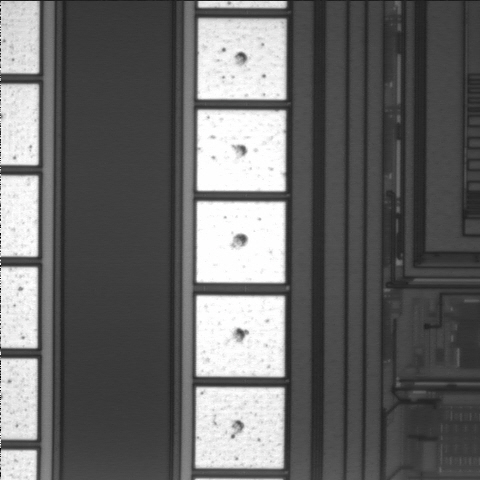pad: (196, 201, 285, 283), (196, 295, 285, 377), (195, 387, 284, 469), (198, 18, 286, 100), (197, 110, 286, 191)
